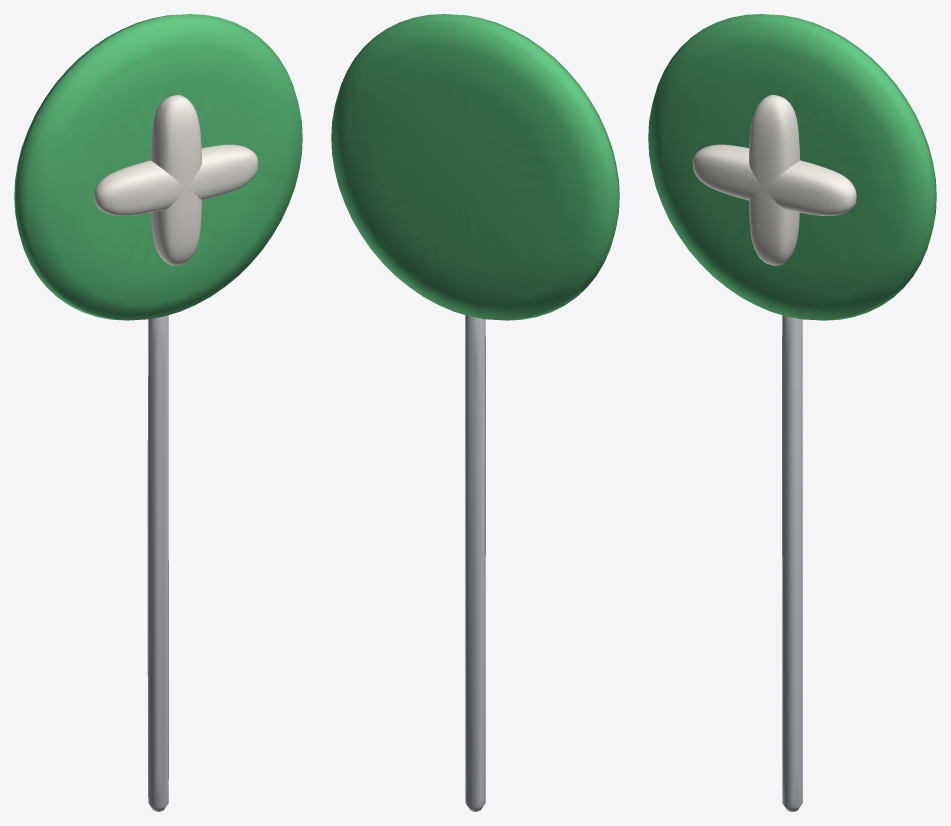
Rendered from boton_comprar.glb.
3 views of the same model, side by side, from view 1: azimuth 30°, elevation 25°; view 2: azimuth 150°, elevation 25°; view 3: azimuth 330°, elevation 25° (orthographic).
Parts seen in each view (by area): view 1: botón +, poste botón, signo +.001, signo +; view 2: botón +, poste botón; view 3: botón +, poste botón, signo +.001, signo +.
Part boxes in pixels (x1=…): botón +: x1=14, y1=14, x2=302, y2=320; poste botón: x1=147, y1=315, x2=168, y2=811; signo +.001: x1=150, y1=95, x2=201, y2=265; signo +: x1=94, y1=144, x2=258, y2=215; botón +: x1=331, y1=14, x2=619, y2=320; poste botón: x1=465, y1=315, x2=485, y2=811; botón +: x1=648, y1=14, x2=936, y2=320; poste botón: x1=782, y1=315, x2=802, y2=811; signo +.001: x1=749, y1=95, x2=800, y2=265; signo +: x1=692, y1=144, x2=856, y2=215.
Size of the model in its own units: 0.4628 by 1.23 by 0.1149.
